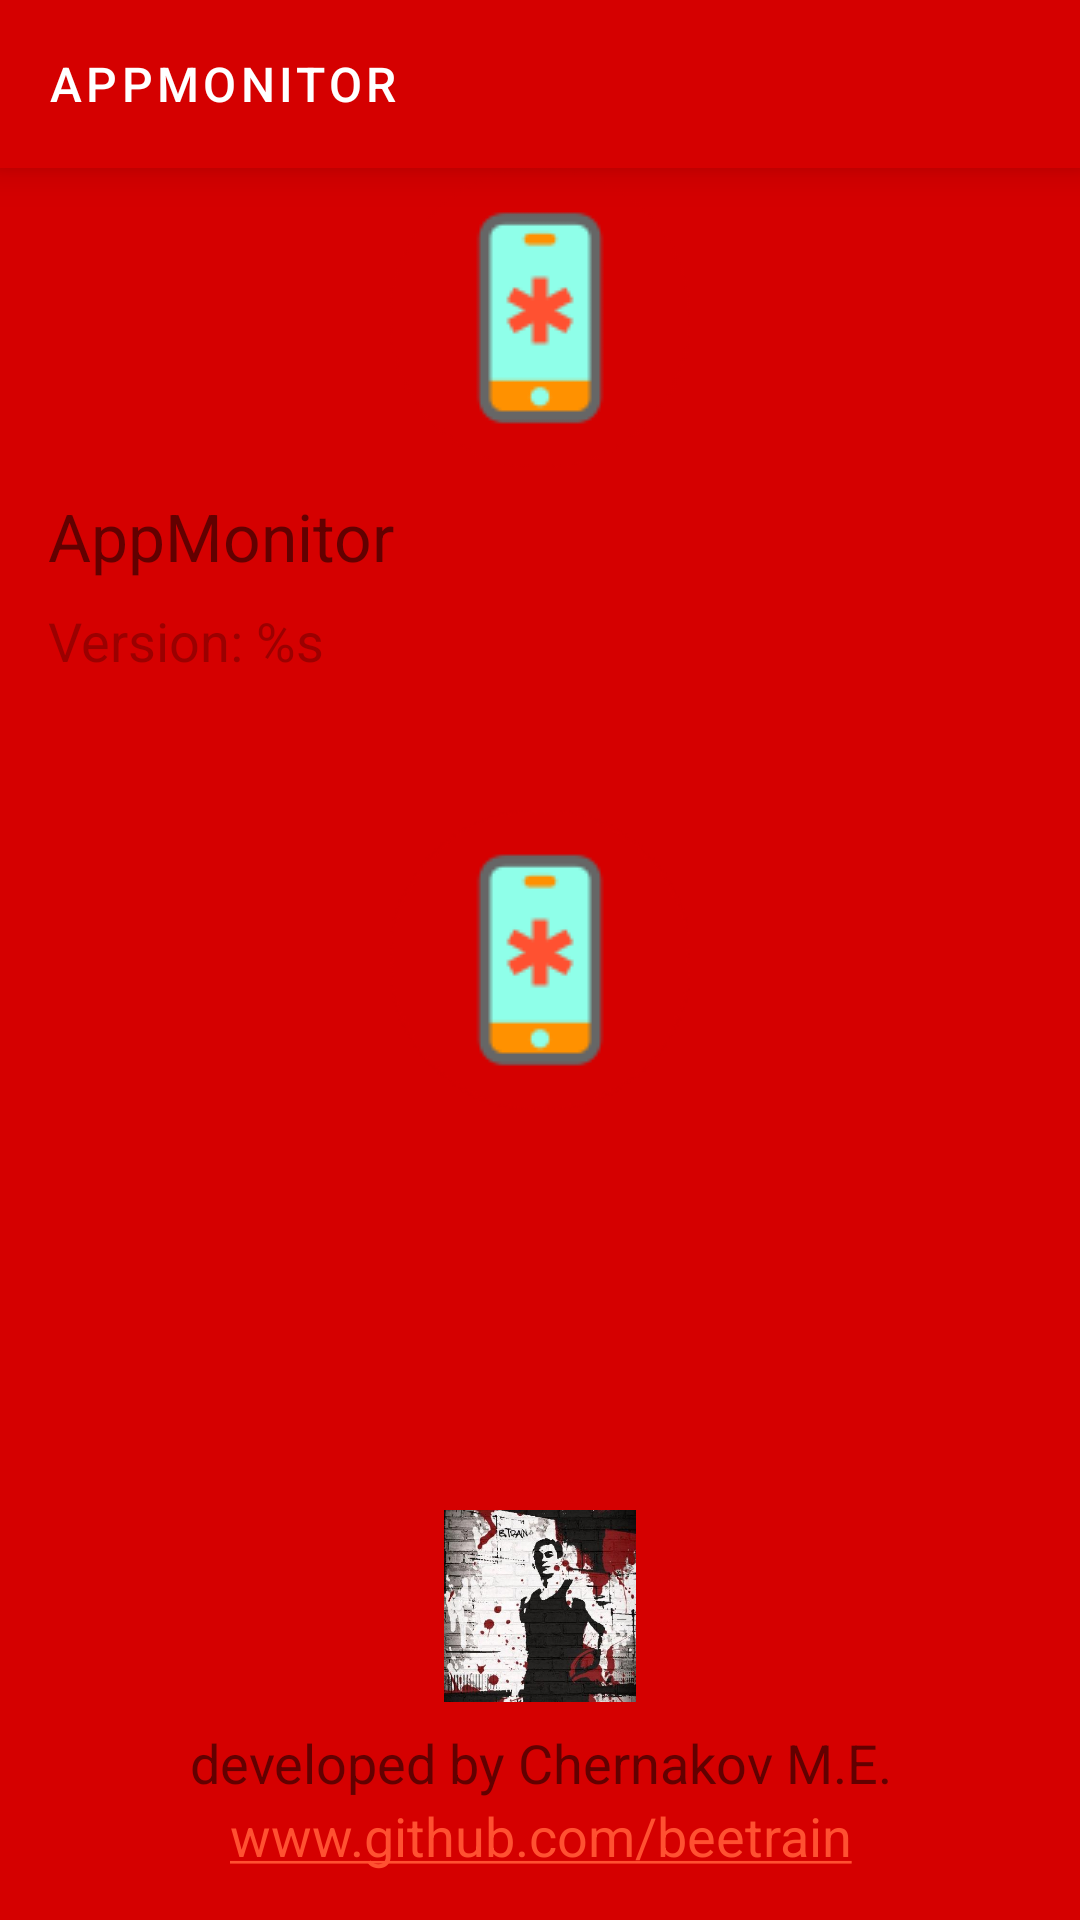

Icons on this 1080w x 1920h Android screen, each with its box as (x1, y1, x2, y2):
author: (444, 1510, 636, 1702)
